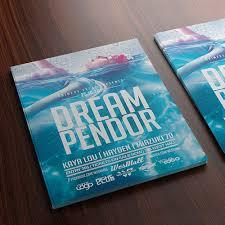Printing industry: (6, 4, 225, 219)
